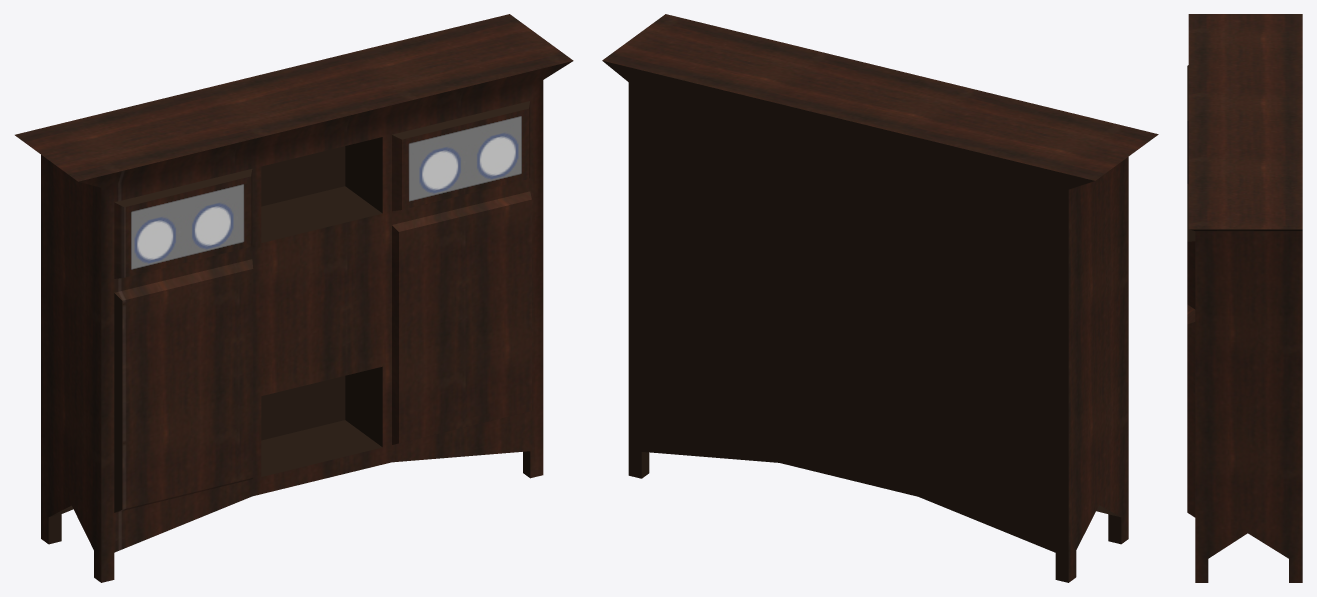
File: china_cabinet.fbx
3 renders of one model, left to right at view 1: azimuth 30°, elevation 25°; view 2: azimuth 150°, elevation 25°; view 3: azimuth 270°, elevation 25°, orthographic. The views are drawn at different scales.
Visible parts, largest first — view 1: pCube1; view 2: pCube1; view 3: pCube1.
Part boxes in pixels (x1,y1,x2,y2): pCube1: [15, 14, 573, 582]; pCube1: [602, 14, 1158, 582]; pCube1: [1187, 14, 1302, 582].
Size of the model in its own units: 4.82 by 3.82 by 1.09.
